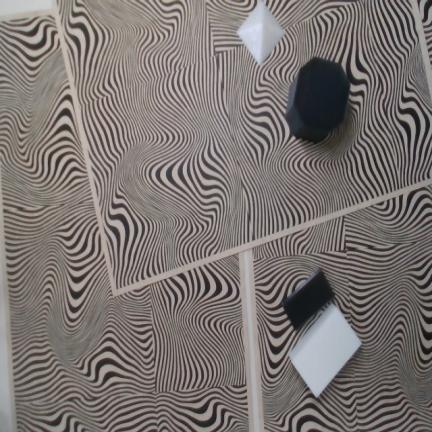Paralelepipedo: (289, 303, 362, 399), (281, 269, 335, 329)
Piramide: (237, 0, 285, 65)
Prisma_hexagonal: (285, 57, 350, 142)
